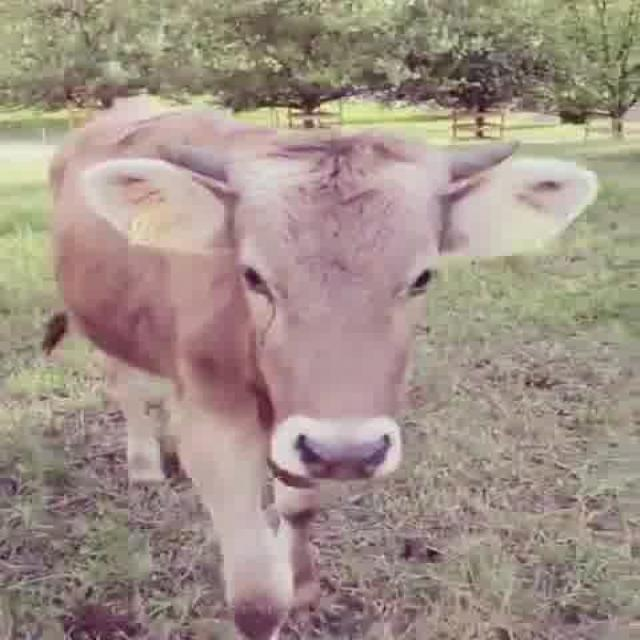cowFace: (72, 114, 600, 493)
